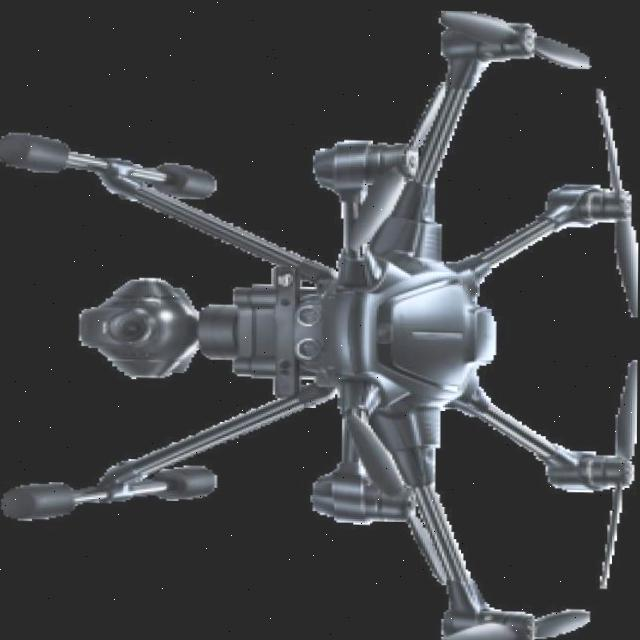drone: (267, 5, 638, 640)
